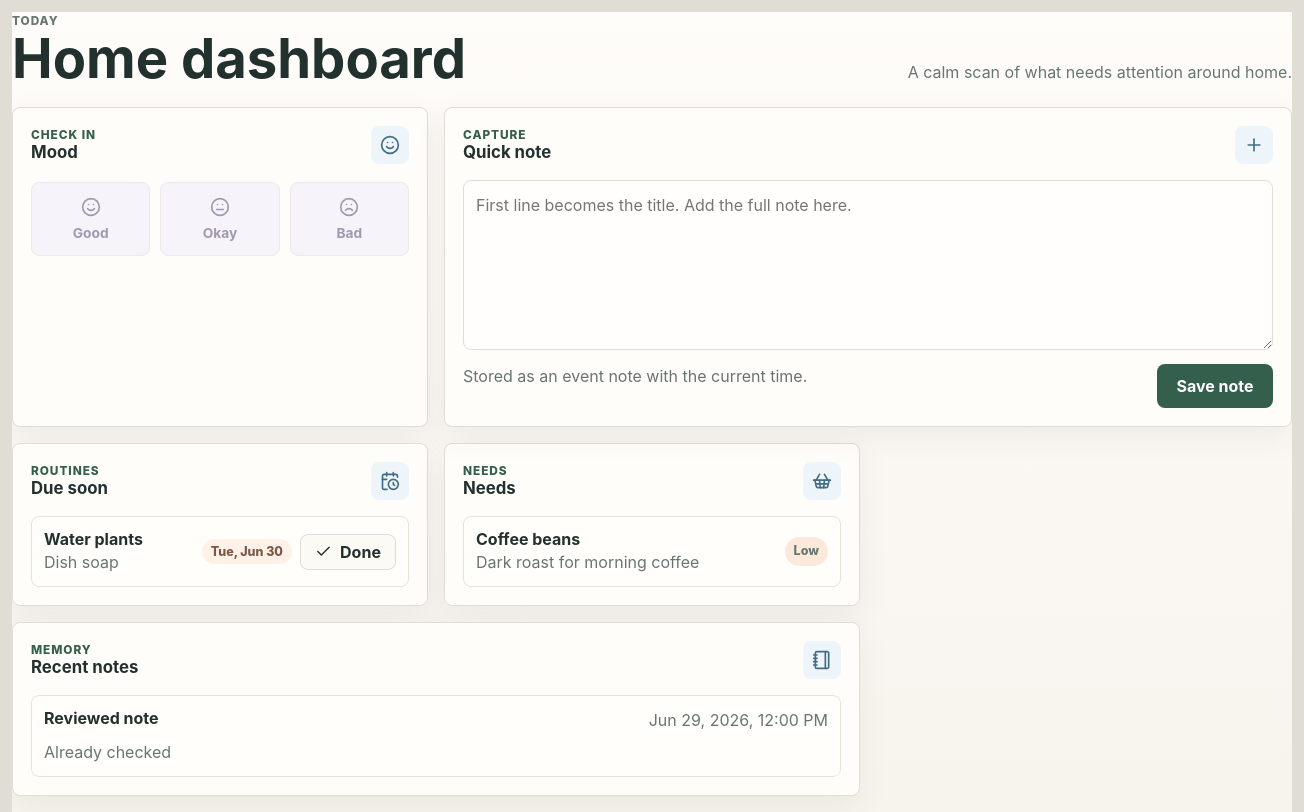
Quick Capture form › restores text and shows an error when save fails
Type "Needs retry" into the text box with placeholder "First line becomes the title. Add the full note here." at (868, 265), box [463,180,1273,350]
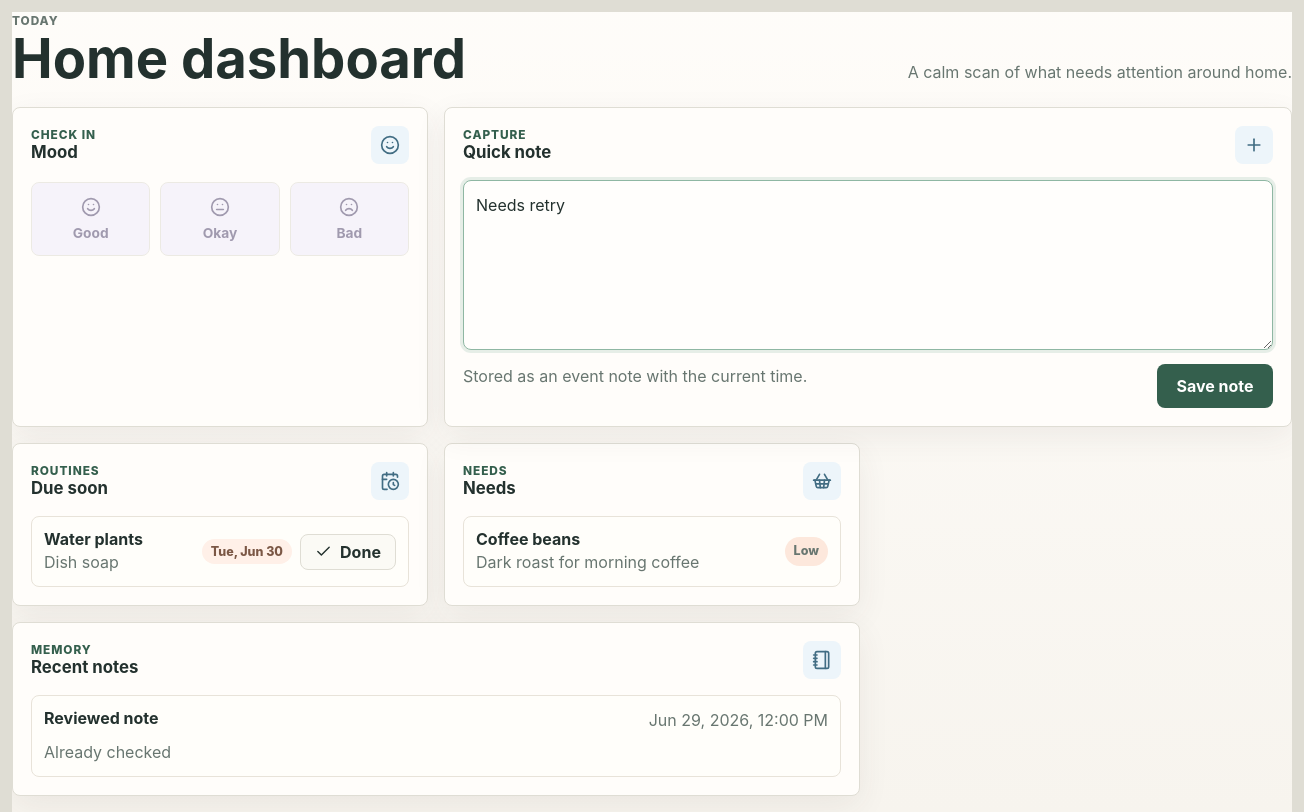
Click the button "Save note" at (1215, 386), box [1157,364,1273,408]
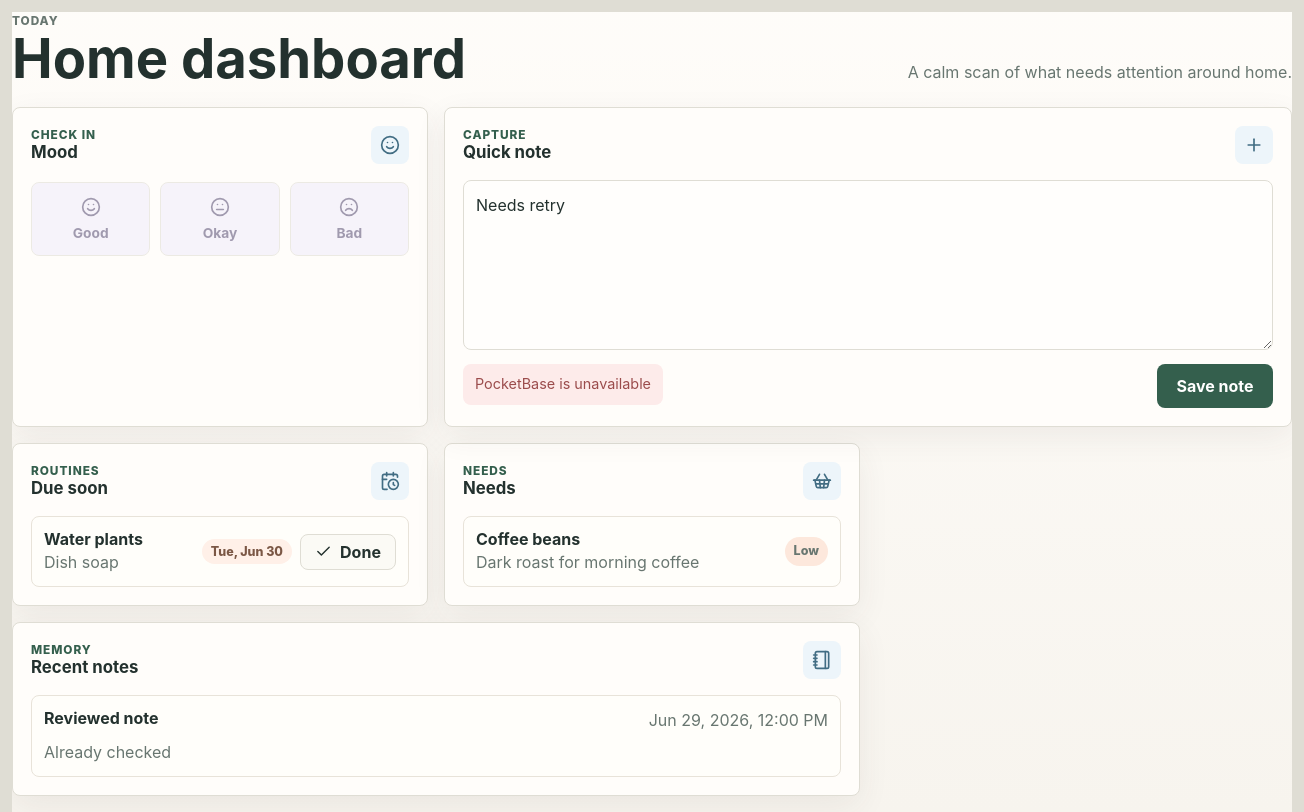
Expected: the text "PocketBase is unavailable" is shown, [463,364,663,404]
